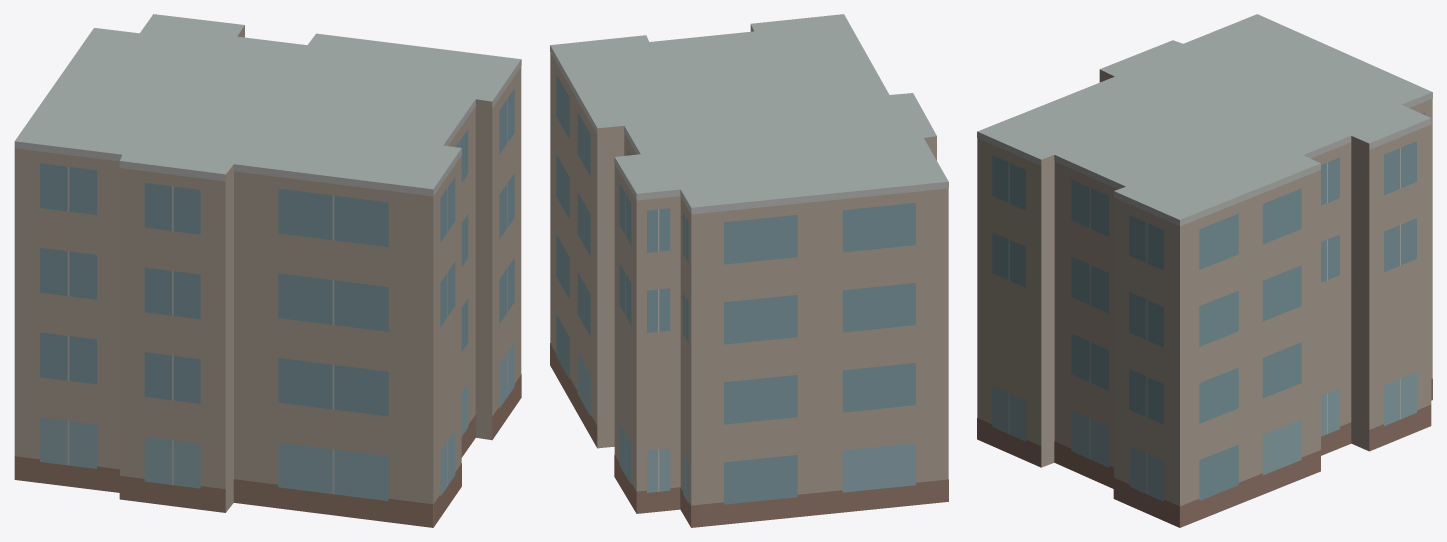
File: survey-upis-32685041.glb
The picture shows the model from 3 angles, left to right: view 1: azimuth 30°, elevation 25°; view 2: azimuth 150°, elevation 25°; view 3: azimuth 270°, elevation 25°; orthographic projection. The views are drawn at different scales.
Parts seen in each view (by area): view 1: survey-upis-32685041.tmp; view 2: survey-upis-32685041.tmp; view 3: survey-upis-32685041.tmp.
Part boxes in pixels (<box>): survey-upis-32685041.tmp: <box>14,14,521,527</box>; survey-upis-32685041.tmp: <box>550,14,948,527</box>; survey-upis-32685041.tmp: <box>977,14,1432,527</box>.
Bounding box in the file's own units: 16.8 × 11.7 × 15.7.
